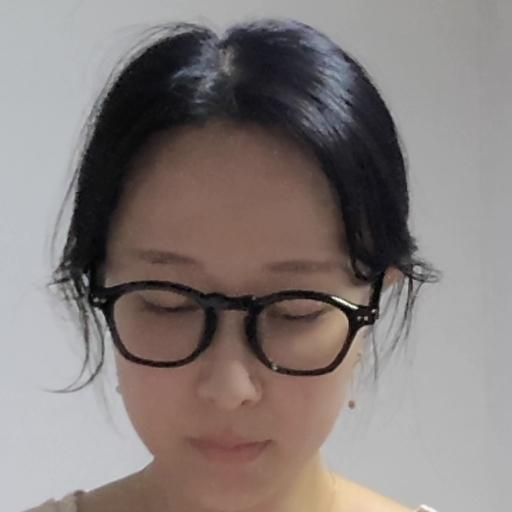no_glasses: (91, 51, 415, 500)
